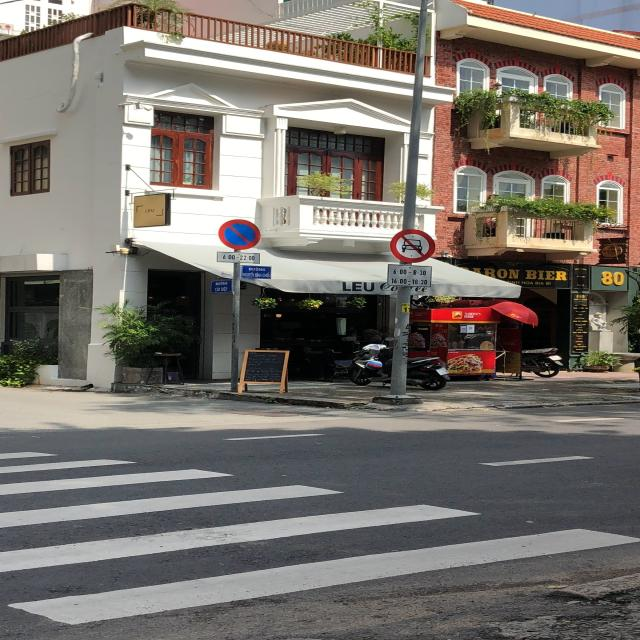Bien bao cam do xe: (216, 218, 272, 250)
Bien bao cam xe oto: (388, 228, 443, 261)
